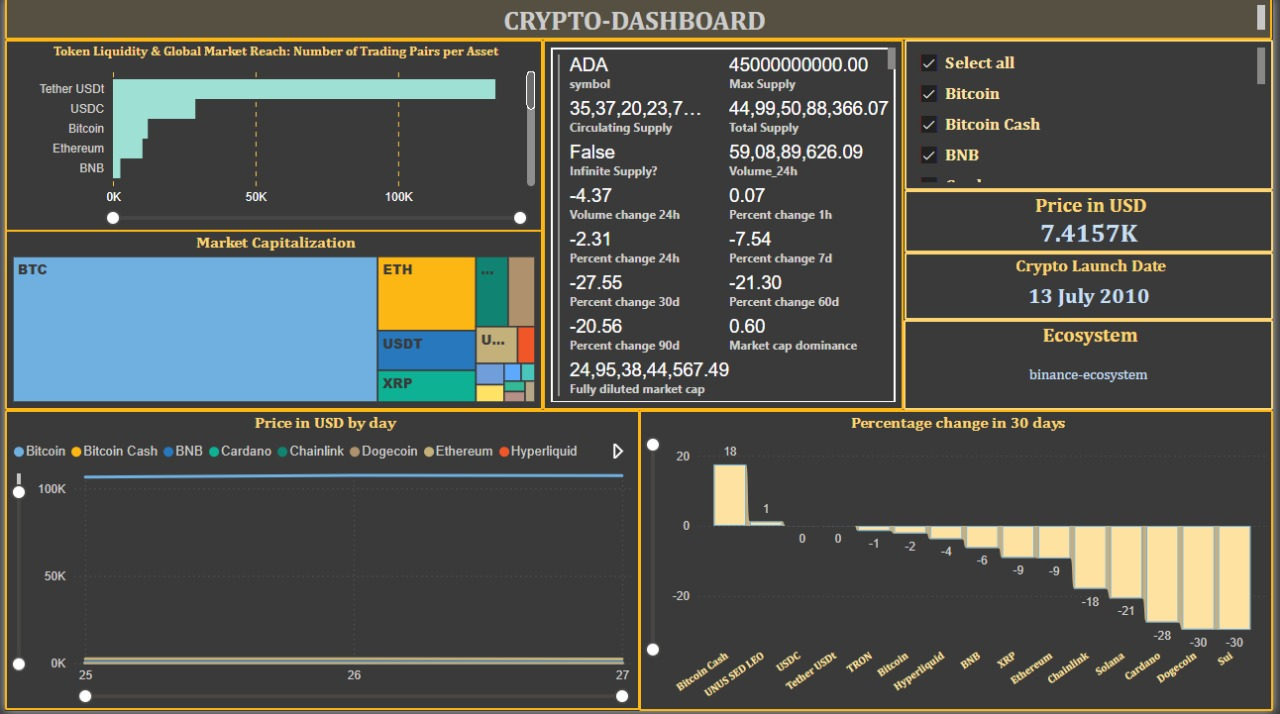

What the dashboard file says about the page in this screenshot:
{"tool":"powerbi","page":{"name":"Page 1","canvas":[1280,720],"ordinal":0},"visuals":[{"type":"barChart","title":"Token Liquidity & Global Market Reach: Number of Trading Pairs per Asset","fields":{"Category":["Cryptop_API (2).name"],"Y":["Avg(Cryptop_API (2).num_market_pairs)"]},"box":[0,42,543,194],"z":0},{"type":"card","title":"Crypto Launch Date","fields":{"Values":["Min(Cryptop_API.date_added)"]},"box":[908,257,372,68],"z":1000},{"type":"treemap","title":"Market Capitalization","fields":{"Group":["Cryptop_API (2).symbol"],"Values":["Avg(Cryptop_API (2).quote.USD.market_cap)"]},"box":[0,234,543,182],"z":2000},{"type":"lineChart","title":"Price in USD  by day","fields":{"Category":["Cryptop_API (2).timestamp.Variation.Date Hierarchy.Day"],"Y":["Avg(Cryptop_API (2).quote.USD.price)"],"Series":["Cryptop_API (2).name"]},"box":[0,416,641,303],"z":3000},{"type":"card","title":"Price in USD","fields":{"Values":["Avg(Cryptop_API (2).quote.USD.price)"]},"box":[908,194,372,63],"z":4000},{"type":"multiRowCard","fields":{"Values":["Cryptop_API (2).symbol","Avg(Cryptop_API (2).max_supply)","Avg(Cryptop_API (2).circulating_supply)","Avg(Cryptop_API (2).total_supply)","Cryptop_API (2).infinite_supply","Avg(Cryptop_API (2).quote.USD.volume_24h)","Avg(Cryptop_API (2).quote.USD.volume_change_24h)","Avg(Cryptop_API (2).quote.USD.percent_change_1h)","Avg(Cryptop_API (2).quote.USD.percent_change_24h)","Avg(Cryptop_API (2).quote.USD.percent_change_7d)","Avg(Cryptop_API (2).quote.USD.percent_change_30d)","Avg(Cryptop_API (2).quote.USD.percent_change_60d)"]},"box":[543,42,364,374],"z":5000},{"type":"columnChart","title":"Percentage change in 30 days","fields":{"Category":["Cryptop_API (2).name"],"Y":["Avg(Cryptop_API (2).quote.USD.percent_change_30d)"]},"box":[640,416,640,304],"z":6000},{"type":"slicer","fields":{"Values":["Cryptop_API.name"]},"box":[908,42,372,152],"z":7000},{"type":"card","title":"Ecosystem","fields":{"Values":["Min(Cryptop_API.Ecosystem)"]},"box":[907,325,373,91],"z":8000},{"type":"textbox","box":[0,0,1279,42],"z":9000}]}

Visuals, with their boxes in screenshot pixels (x1, y1, x2, y2), scaled from the page's 1280x720 canvas onto the 1280x714 screenshot:
"Token Liquidity & Global Market Reach: Number of Trading Pairs per Asset" barChart: {"x1": 0, "y1": 42, "x2": 543, "y2": 234}
"Crypto Launch Date" card: {"x1": 908, "y1": 255, "x2": 1279, "y2": 322}
"Market Capitalization" treemap: {"x1": 0, "y1": 232, "x2": 543, "y2": 413}
"Price in USD  by day" lineChart: {"x1": 0, "y1": 413, "x2": 641, "y2": 713}
"Price in USD" card: {"x1": 908, "y1": 192, "x2": 1279, "y2": 255}
multiRowCard - Cryptop_API (2).symbol x Avg(Cryptop_API (2).max_supply): {"x1": 543, "y1": 42, "x2": 907, "y2": 413}
"Percentage change in 30 days" columnChart: {"x1": 640, "y1": 413, "x2": 1279, "y2": 713}
slicer - Cryptop_API.name: {"x1": 908, "y1": 42, "x2": 1279, "y2": 192}
"Ecosystem" card: {"x1": 907, "y1": 322, "x2": 1279, "y2": 413}
textbox: {"x1": 0, "y1": 0, "x2": 1279, "y2": 42}
